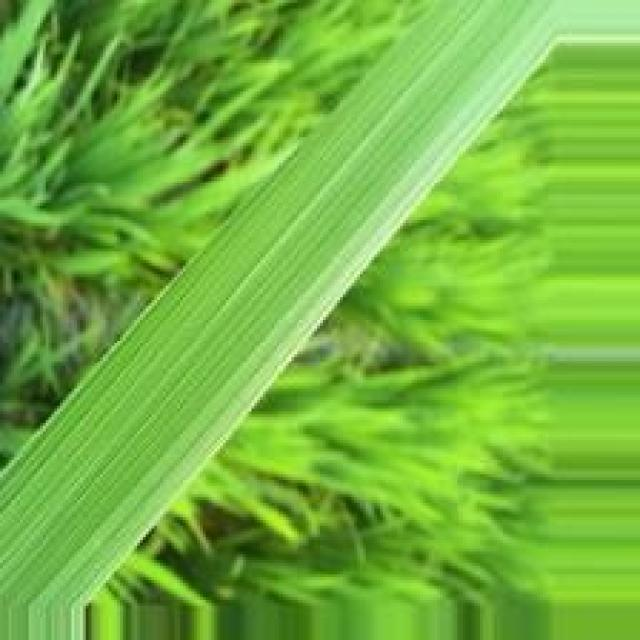HealthyLeaf: (2, 2, 547, 605)
